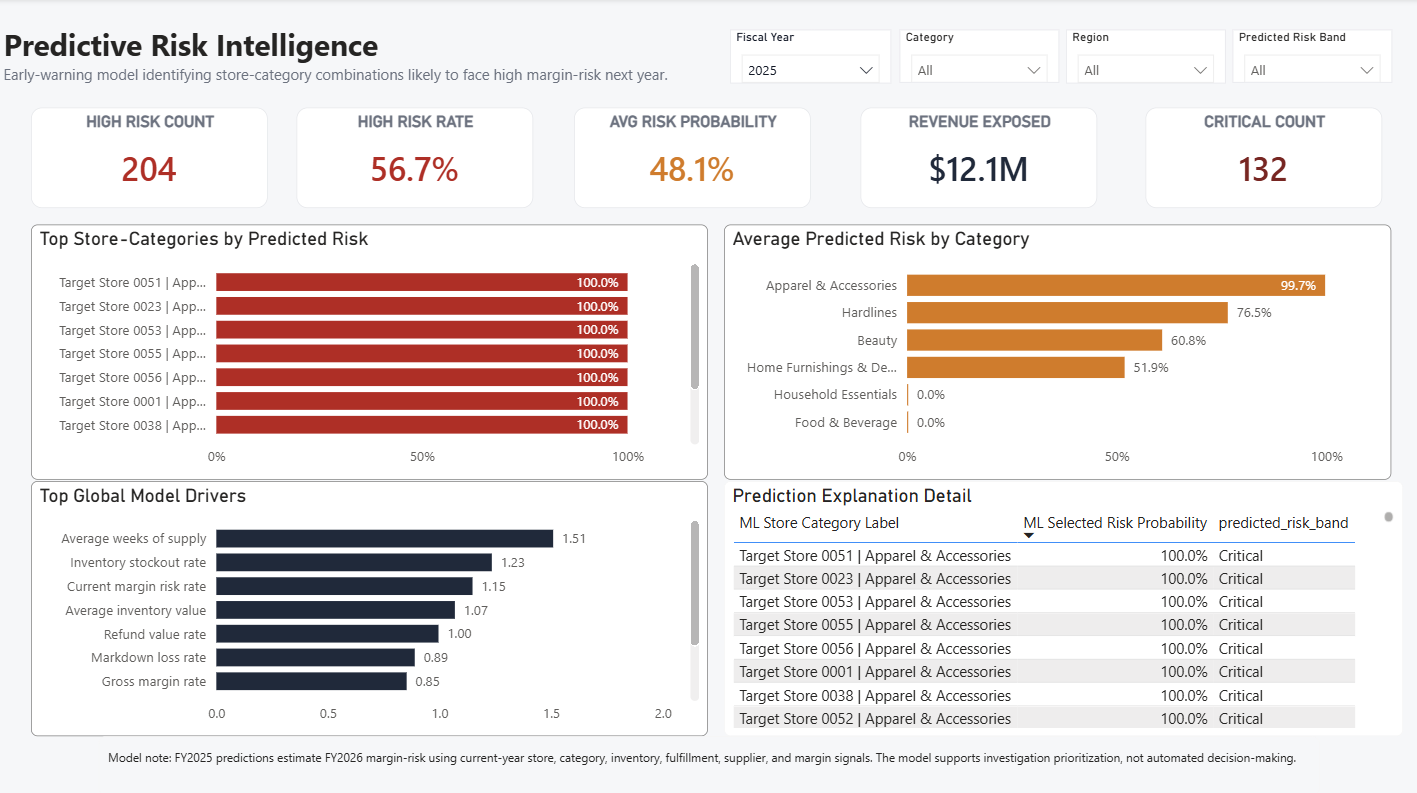

The dashboard page shown, as its layout file describes it:
{"tool":"powerbi","page":{"name":"Predictive Risk Intelligence","canvas":[1280,720],"ordinal":7},"visuals":[{"type":"textbox","box":[0,0,399.8,75.7],"z":0},{"type":"textbox","box":[0,54.5,623.9,43.9],"z":1000},{"type":"slicer","title":"Fiscal Year","fields":{"Values":["Dim Fiscal Year.fiscal_year"]},"box":[660.2,28.8,145.4,48.5],"z":2000},{"type":"slicer","title":"Category","fields":{"Values":["Dim Category.category"]},"box":[811.9,28.8,143.8,48.1],"z":3000},{"type":"slicer","title":"Region","fields":{"Values":["ML Margin Risk Predictions.region"]},"box":[961.9,28.8,143.8,48.8],"z":4000},{"type":"slicer","title":"Predicted Risk Band ","fields":{"Values":["ML Margin Risk Predictions.predicted_risk_band"]},"box":[1111.9,28.8,143.8,48.1],"z":5000},{"type":"cardVisual","title":"HIGH RISK COUNT","fields":{"Data":["_Measures.ML High Risk Count"]},"box":[30.3,98.4,213.5,90.9],"z":6000},{"type":"cardVisual","title":"HIGH RISK RATE","fields":{"Data":["_Measures.ML High Risk Rate"]},"box":[269.5,98.4,213.5,90.9],"z":7000},{"type":"cardVisual","title":"AVG RISK PROBABILITY","fields":{"Data":["_Measures.ML Average Risk Probability"]},"box":[519.4,98.4,213.5,90.9],"z":8000},{"type":"cardVisual","title":"REVENUE EXPOSED","fields":{"Data":["_Measures.ML Revenue Exposed to High Risk"]},"box":[776.8,98.4,213.5,90.9],"z":9000},{"type":"cardVisual","title":"CRITICAL COUNT","fields":{"Data":["_Measures.ML Critical Count"]},"box":[1034.2,98.4,213.5,90.9],"z":10000},{"type":"clusteredBarChart","title":"Top Store-Categories by Predicted Risk","fields":{"Y":["_Measures.ML Selected Risk Probability"],"Category":["ML Margin Risk Predictions.ML Store Category Label"]},"box":[30.3,204.4,610.2,230.2],"z":11000},{"type":"clusteredBarChart","title":"Average Predicted Risk by Category","fields":{"Category":["ML Margin Risk Predictions.category"],"Y":["_Measures.ML Average Risk Probability"]},"box":[654.1,204.4,601.1,230.2],"z":12000},{"type":"clusteredBarChart","title":"Top Global Model Drivers","fields":{"Category":["ML Feature Importance.feature"],"Y":["Avg(ML Feature Importance.mean_abs_shap_value)"]},"box":[30.3,434.6,610.2,230.2],"z":13000},{"type":"tableEx","title":"Prediction Explanation Detail","fields":{"Values":["ML Margin Risk Predictions.ML Store Category Label","_Measures.ML Selected Risk Probability","ML Margin Risk Predictions.predicted_risk_band"]},"box":[654.1,434.6,611.7,230.2],"z":14000},{"type":"textbox","box":[90.9,664.7,1100.8,54.5],"z":15000}]}

Visuals, with their boxes in screenshot pixels (x1, y1, x2, y2), scaled from the page's 1280x720 canvas onto the 1417x793 screenshot:
textbox: <bbox>0, 0, 443, 83</bbox>
textbox: <bbox>0, 60, 691, 108</bbox>
"Fiscal Year" slicer: <bbox>731, 32, 892, 85</bbox>
"Category" slicer: <bbox>899, 32, 1058, 85</bbox>
"Region" slicer: <bbox>1065, 32, 1224, 85</bbox>
"Predicted Risk Band " slicer: <bbox>1231, 32, 1390, 85</bbox>
"HIGH RISK COUNT" cardVisual: <bbox>34, 108, 270, 208</bbox>
"HIGH RISK RATE" cardVisual: <bbox>298, 108, 535, 208</bbox>
"AVG RISK PROBABILITY" cardVisual: <bbox>575, 108, 811, 208</bbox>
"REVENUE EXPOSED" cardVisual: <bbox>860, 108, 1096, 208</bbox>
"CRITICAL COUNT" cardVisual: <bbox>1145, 108, 1381, 208</bbox>
"Top Store-Categories by Predicted Risk" clusteredBarChart: <bbox>34, 225, 709, 479</bbox>
"Average Predicted Risk by Category" clusteredBarChart: <bbox>724, 225, 1390, 479</bbox>
"Top Global Model Drivers" clusteredBarChart: <bbox>34, 479, 709, 732</bbox>
"Prediction Explanation Detail" tableEx: <bbox>724, 479, 1401, 732</bbox>
textbox: <bbox>101, 732, 1319, 792</bbox>
